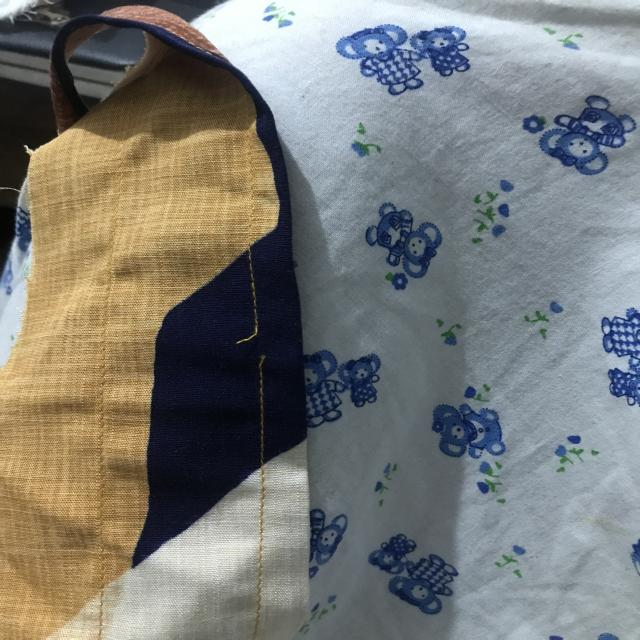broken: (224, 310, 282, 382)
good: (243, 258, 266, 300)
